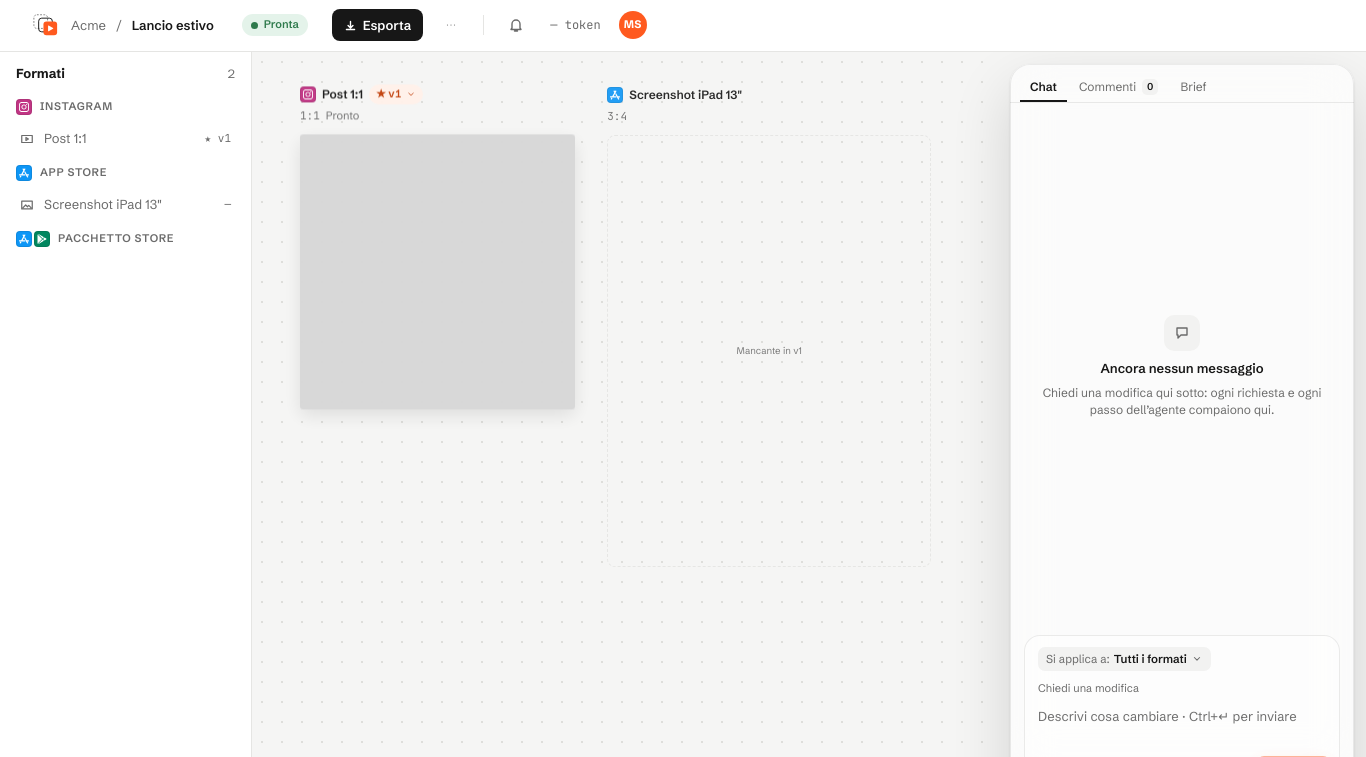
it: CreativeCanvas · the store pack is one group › with every pack instance taken out the group is still there, empty, and the pack export stays in Export
This screenshot has width=1366, height=757.
Click the button "Esporta" at point(378, 25), box [332,9,423,41]
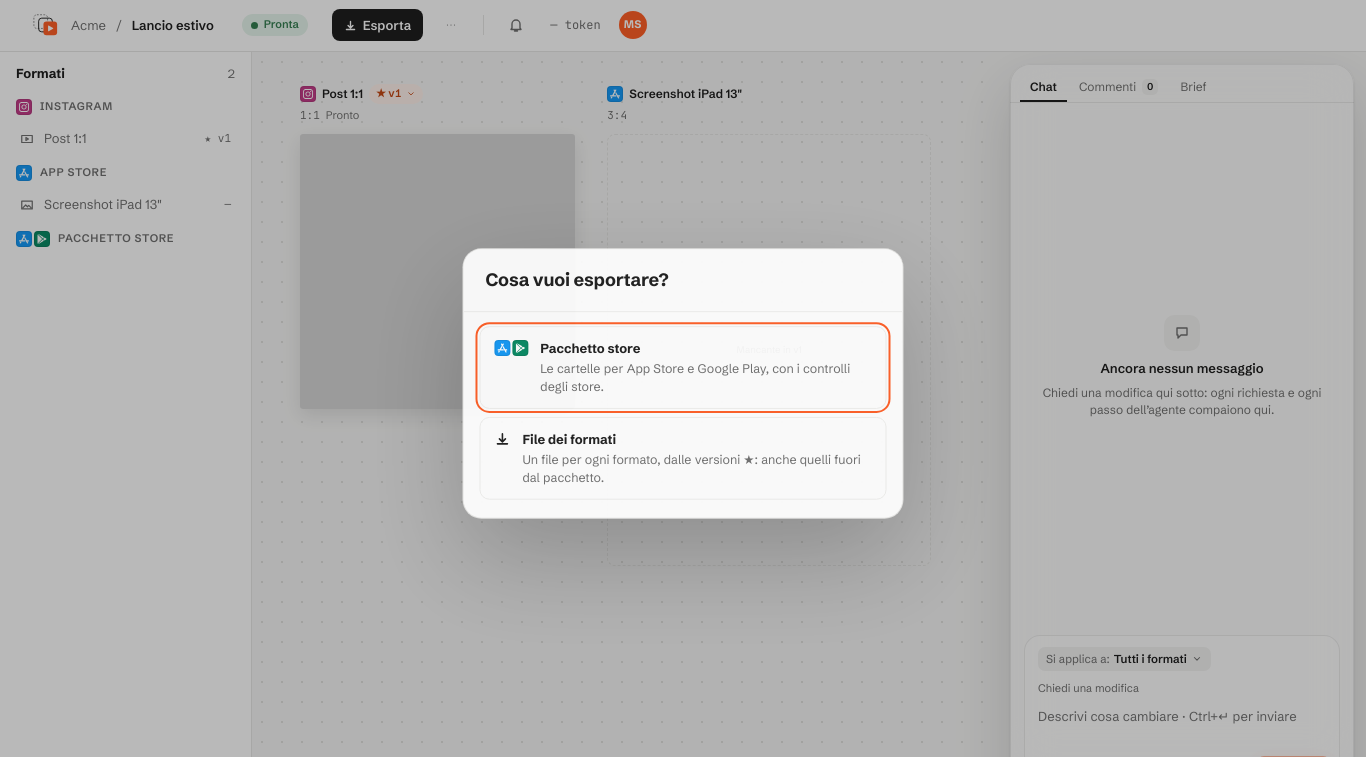
Expected: the button "Pacchetto store" is shown, [479,326,887,410]
